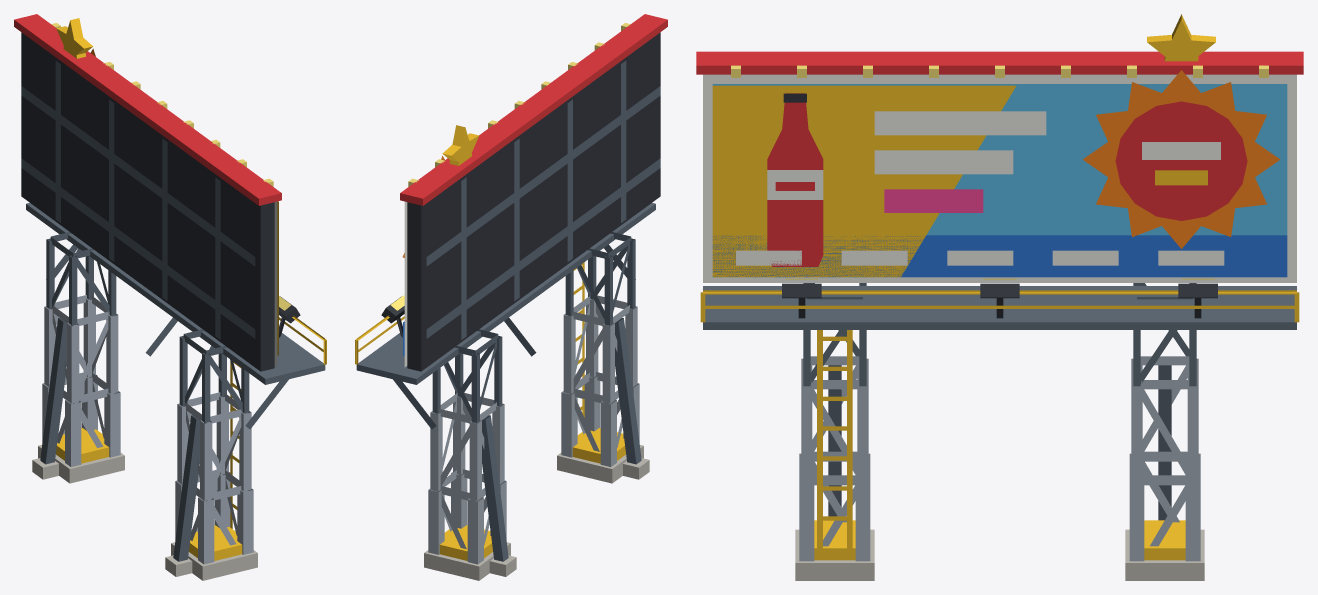
Rendered from billboard_big.glb.
3 views of the same model, side by side, from view 1: azimuth 30°, elevation 25°; view 2: azimuth 150°, elevation 25°; view 3: azimuth 270°, elevation 25° (orthographic). The views are drawn at different scales.
Visible parts, largest first — view 1: Body; view 2: Body; view 3: Body.
Part boxes in pixels (x1,y1,x2,y2): Body: [14, 14, 326, 580]; Body: [355, 14, 667, 580]; Body: [696, 14, 1303, 580].
Size of the model in its own units: 0.4717 by 1.83 by 1.84.
